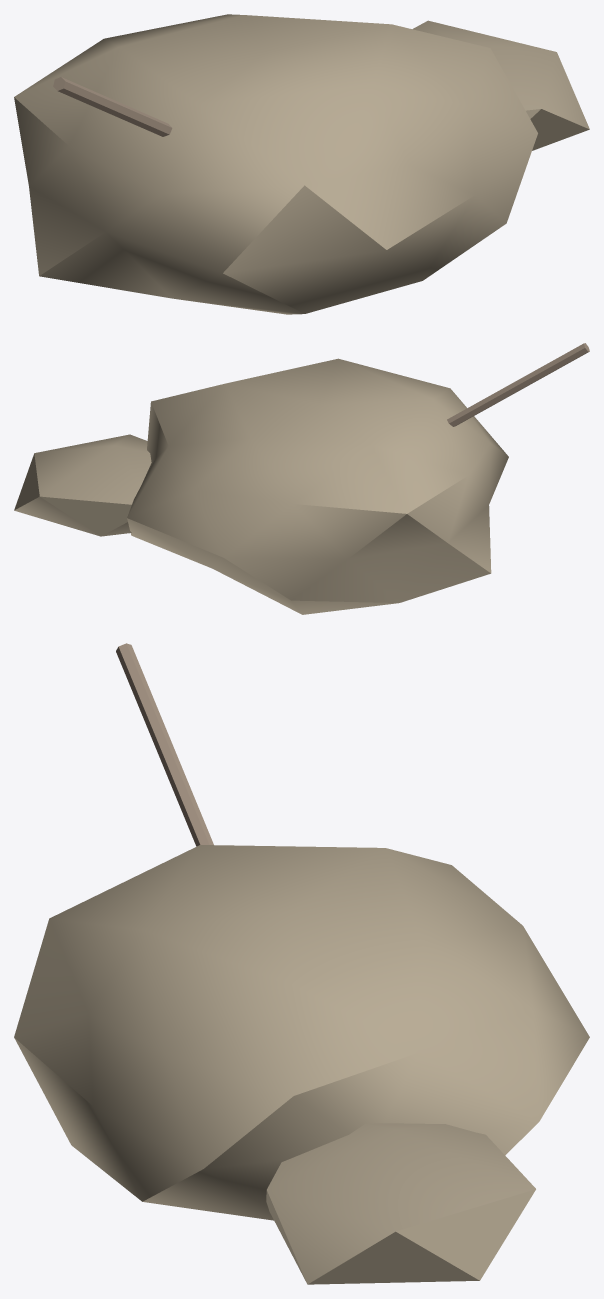
The model's file is grain_heap.gltf.
The picture shows the model from 3 angles, top to bottom: view 1: azimuth 30°, elevation 25°; view 2: azimuth 150°, elevation 25°; view 3: azimuth 270°, elevation 25°; orthographic projection. The views are drawn at different scales.
Visible parts, largest first — view 1: Body; view 2: Body; view 3: Body.
Part boxes in pixels (x1,y1,x2,y2): Body: [14, 14, 589, 314]; Body: [14, 343, 589, 614]; Body: [14, 643, 589, 1284].
Bounding box in the file's own units: 2.43 × 1.23 × 1.69.
